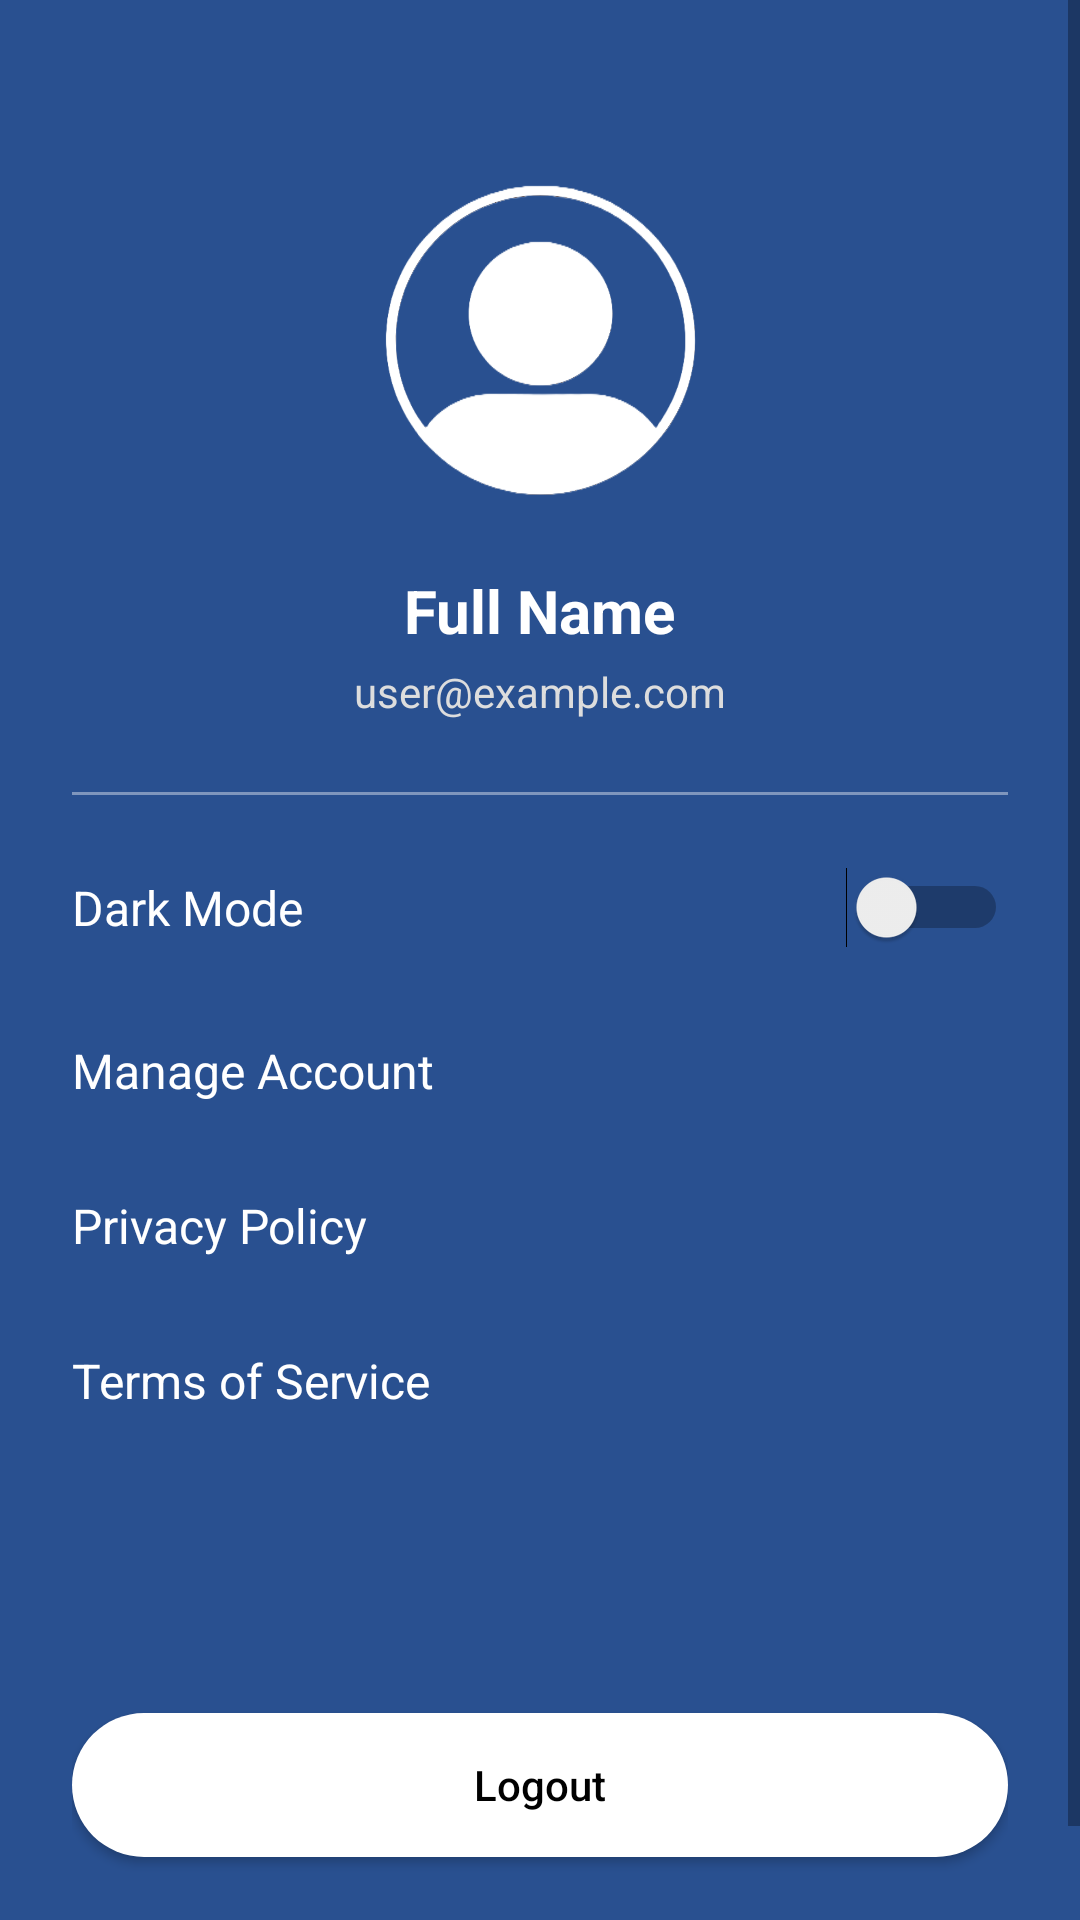

Where icons sit on this 1080×1920 app screen, as (x1, y1, x2, y2):
profileee: (386, 186, 695, 495)
